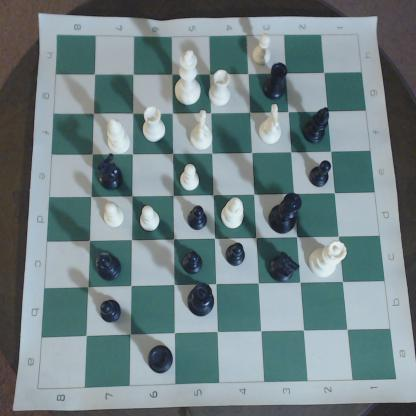black-bishop: (305, 108, 334, 146), (96, 250, 122, 284)
black-king: (274, 193, 301, 237)
black-knight: (267, 249, 303, 285), (97, 153, 124, 192)
black-pawn: (307, 158, 336, 189), (100, 300, 126, 330), (225, 243, 248, 271), (187, 206, 210, 233), (185, 246, 205, 275)
black-queen: (187, 284, 216, 319)
black-rook: (143, 343, 175, 377), (266, 61, 288, 106)
white-bishop: (102, 116, 132, 157), (219, 196, 248, 235)
white-king: (173, 51, 206, 108)
white-knight: (257, 104, 285, 148), (191, 111, 213, 155)
white-pawn: (244, 30, 274, 70), (142, 202, 167, 239), (178, 161, 205, 195), (100, 203, 129, 229)
white-queen: (310, 238, 351, 283)
white-rook: (140, 103, 168, 146), (208, 73, 235, 109)
